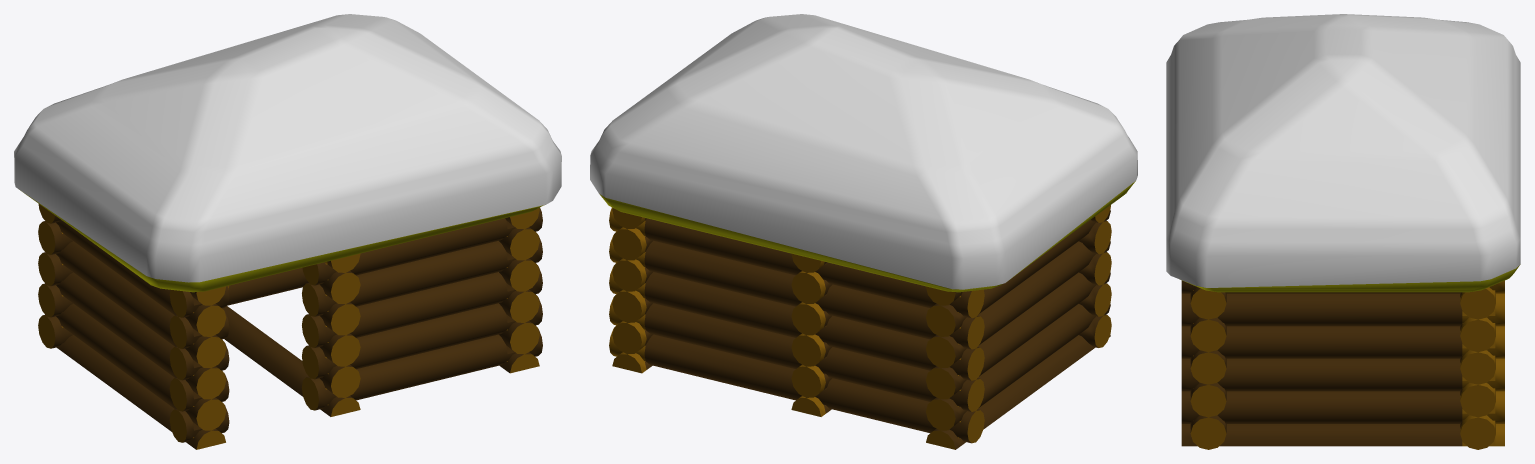
Rendered from Shed.fbx.
The picture shows the model from 3 angles, left to right: view 1: azimuth 30°, elevation 25°; view 2: azimuth 150°, elevation 25°; view 3: azimuth 270°, elevation 25°; orthographic projection. The views are drawn at different scales.
Visible parts, largest first — view 1: polySurface51; view 2: polySurface51; view 3: polySurface51.
Boxes of the visible parts, x1=… form: polySurface51: x1=14, y1=14, x2=561, y2=449; polySurface51: x1=590, y1=14, x2=1137, y2=449; polySurface51: x1=1166, y1=14, x2=1520, y2=449.
Size of the model in its own units: 27.71 by 19.73 by 19.73.
